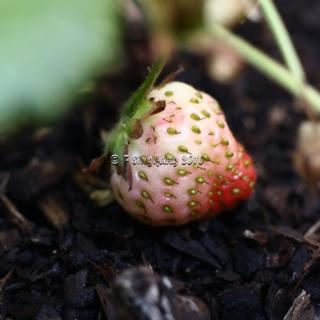Strawberry: (99, 77, 243, 228)
